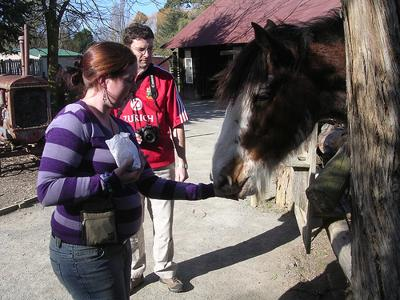person: (38, 40, 241, 299)
